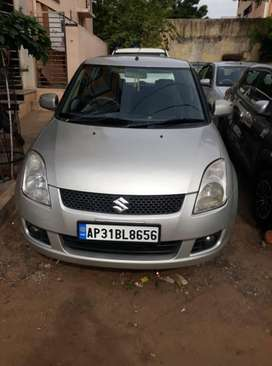AP31BL8656: (79, 223, 158, 240)
